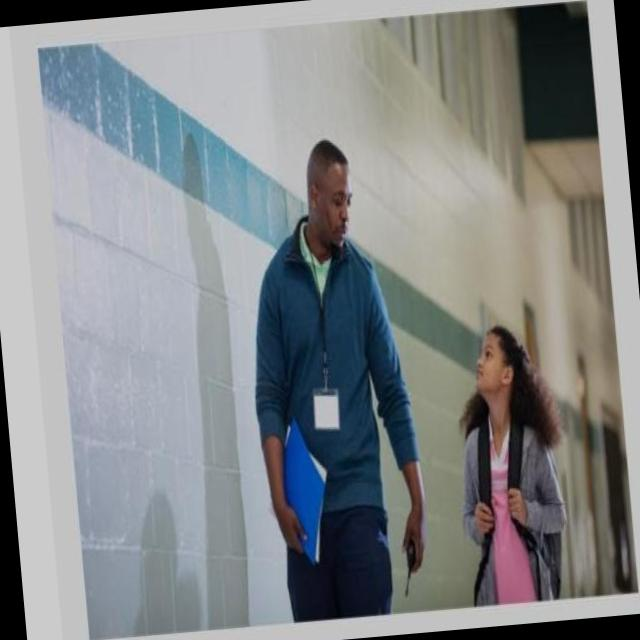id_card: (295, 240, 356, 433)
